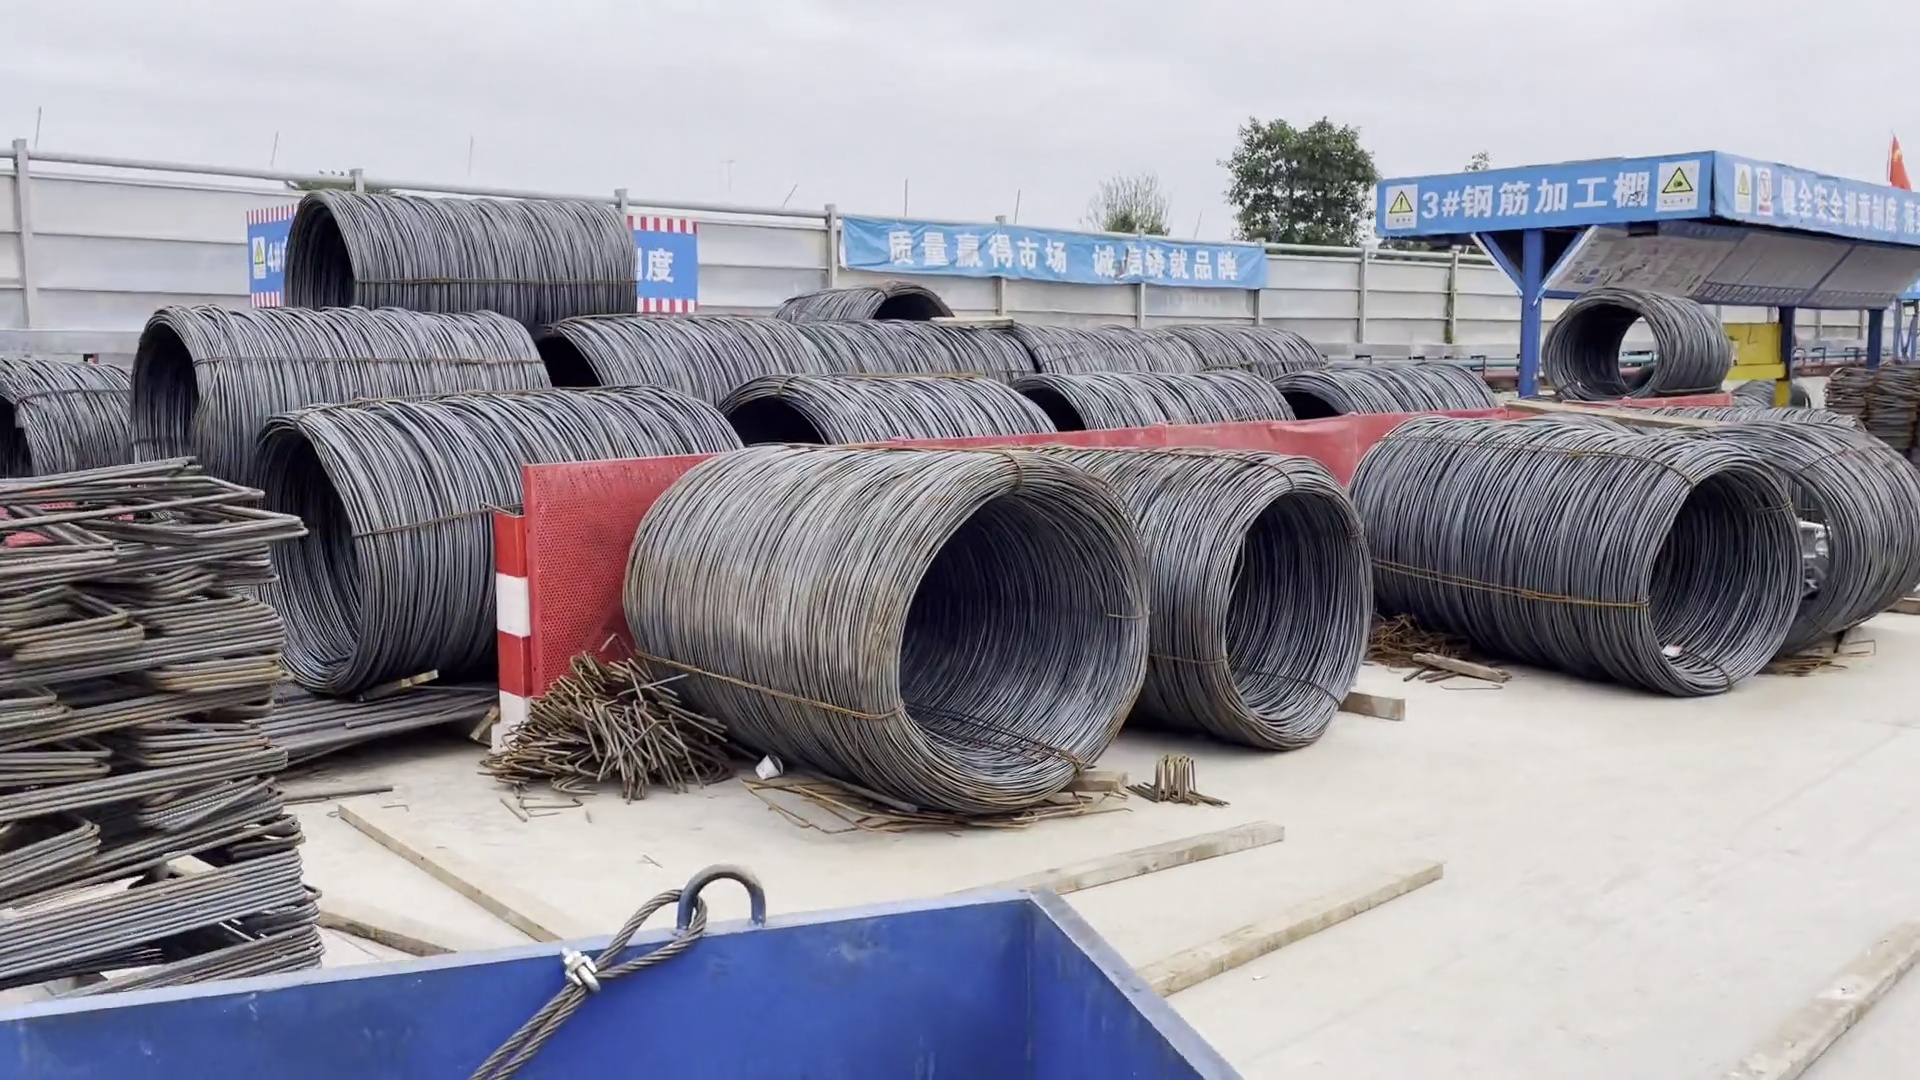hopper: (8, 887, 1273, 1080)
slogan: (861, 227, 1250, 294)
